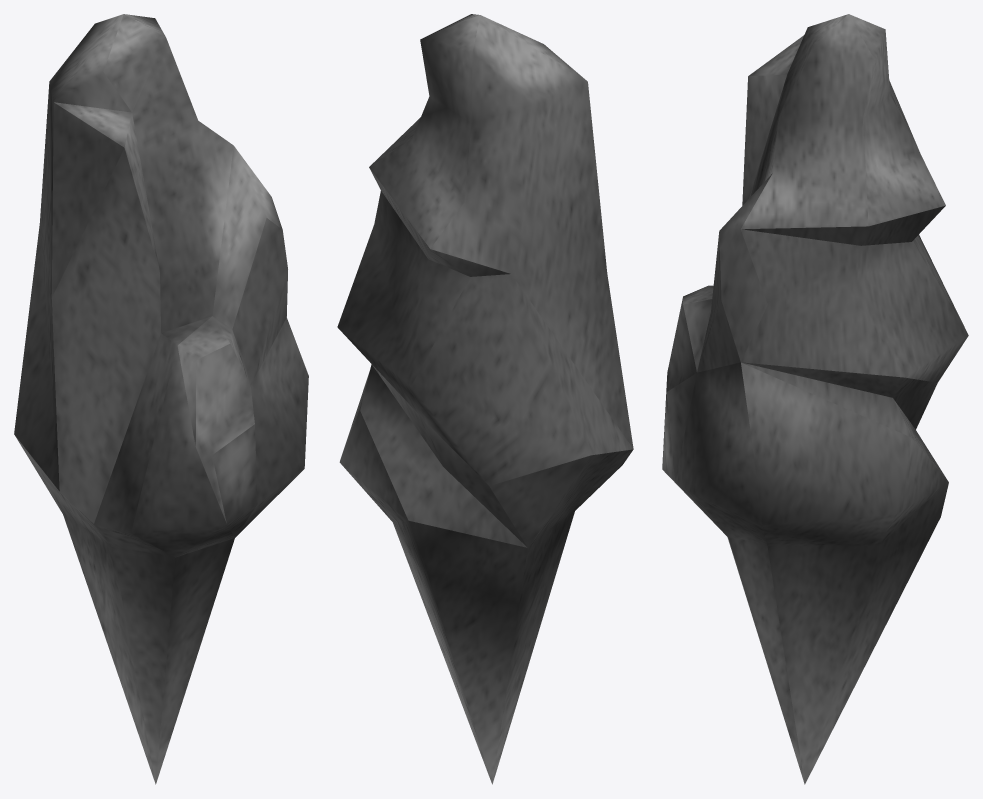
The picture shows the model from 3 angles, left to right: view 1: azimuth 30°, elevation 25°; view 2: azimuth 150°, elevation 25°; view 3: azimuth 270°, elevation 25°; orthographic projection. The views are drawn at different scales.
Parts seen in each view (by area): view 1: rock_LOD0; view 2: rock_LOD0; view 3: rock_LOD0.
Boxes of the visible parts, left/top/right/bottom form: rock_LOD0: left=14, top=14, right=308, bottom=784; rock_LOD0: left=337, top=14, right=633, bottom=784; rock_LOD0: left=662, top=14, right=968, bottom=784.
Size of what is drawn, in the model's own units: 200 by 591 by 214.
